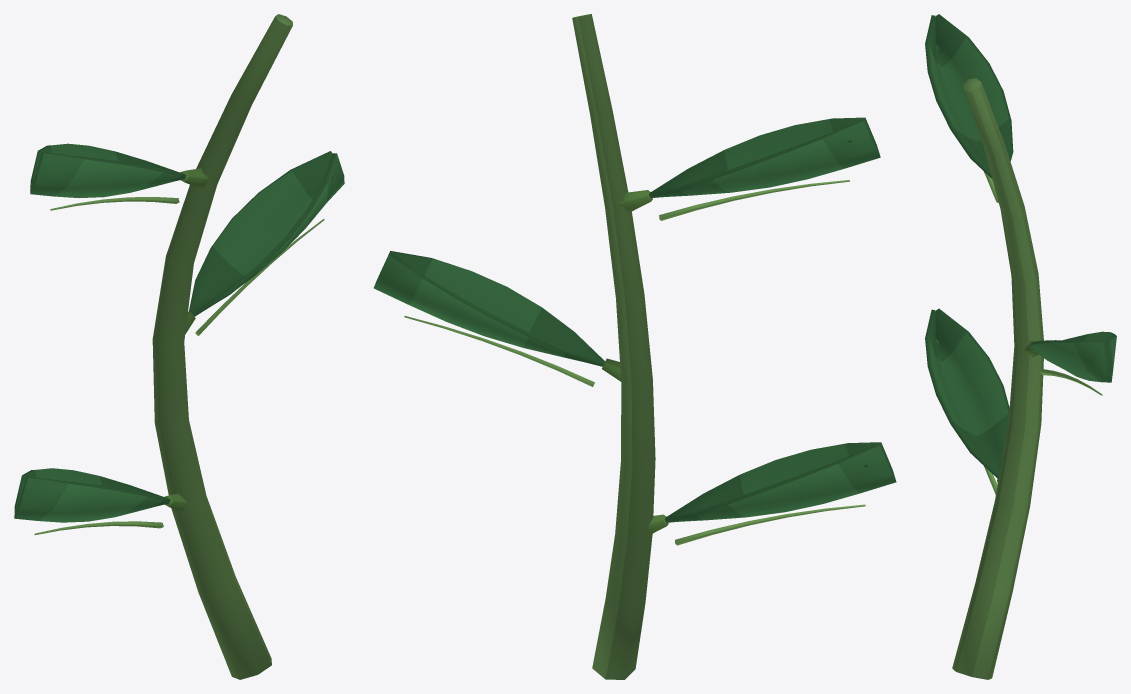
Rendered from garden-zinnia-leaves-stem-1.glb.
The picture shows the model from 3 angles, left to right: view 1: azimuth 30°, elevation 25°; view 2: azimuth 150°, elevation 25°; view 3: azimuth 270°, elevation 25°; orthographic projection. The views are drawn at different scales.
Parts seen in each view (by area): view 1: zinnia-leaves-stem-1; view 2: zinnia-leaves-stem-1; view 3: zinnia-leaves-stem-1.
Boxes of the visible parts, left/top/right/bottom form: zinnia-leaves-stem-1: left=14, top=14, right=344, bottom=679; zinnia-leaves-stem-1: left=373, top=14, right=896, bottom=679; zinnia-leaves-stem-1: left=925, top=14, right=1116, bottom=679.
Bounding box in the file's own units: 0.1531 × 0.2239 × 0.0634.
